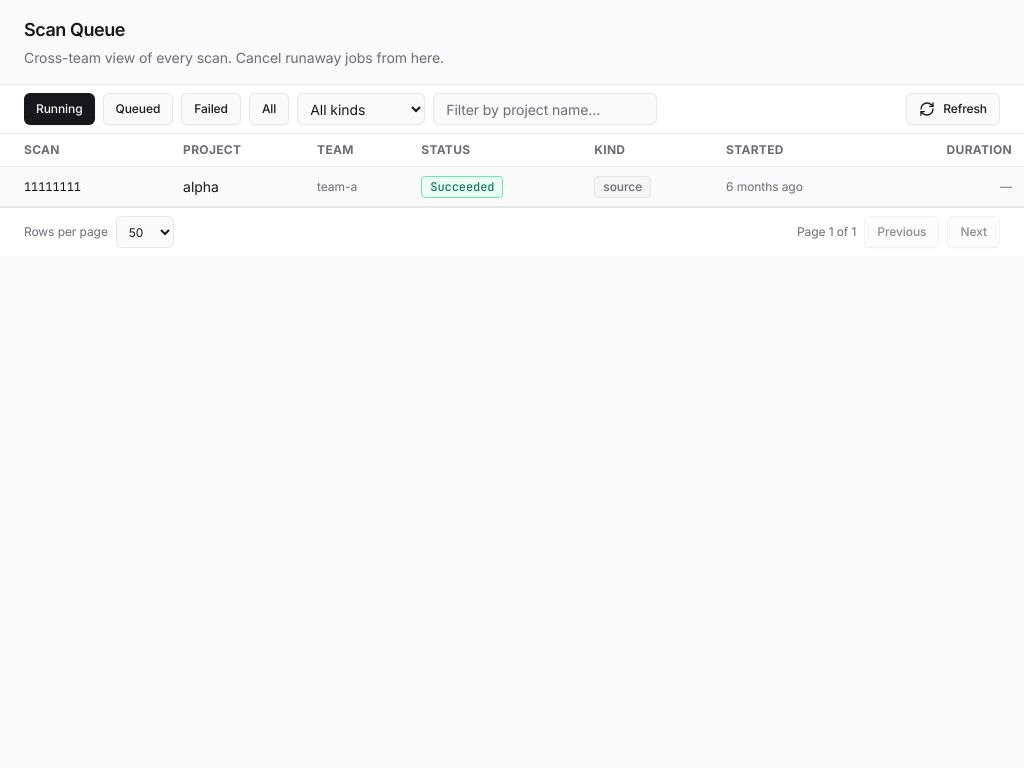
Test: AdminScansPage › succeeded scans render without the cancel action
Click the row with test id "admin-scans-row": [512, 186] box [0,166,1023,206]
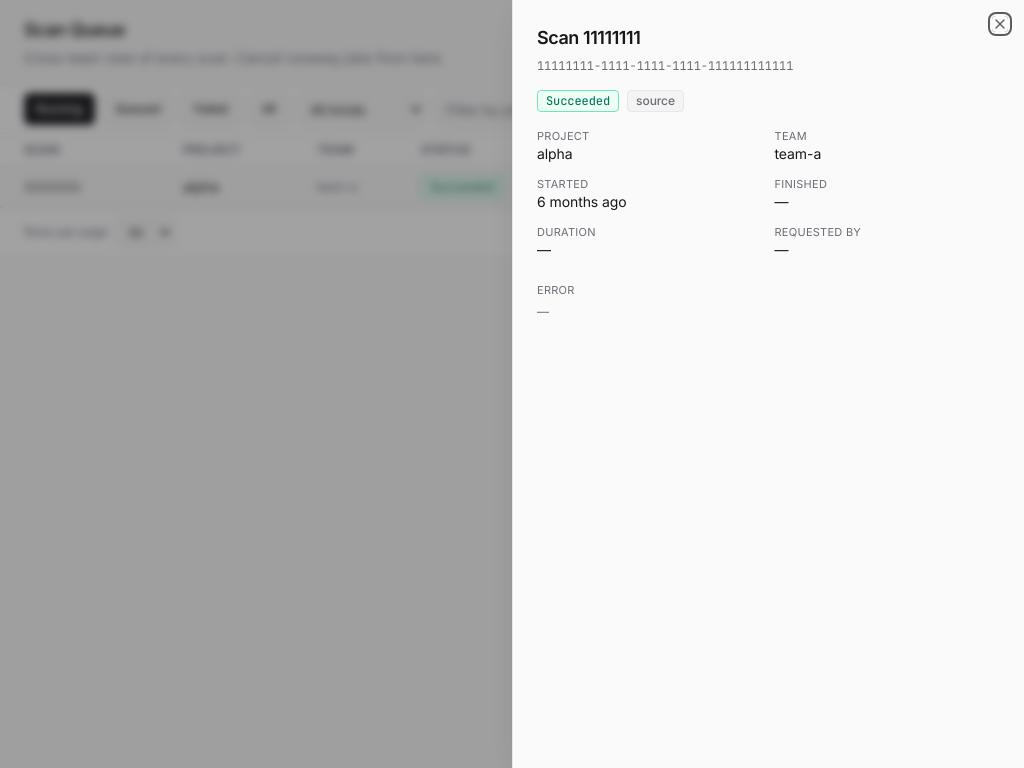
Expected: the dialog with test id "admin-scan-drawer" is shown, [512,0,1023,767]
